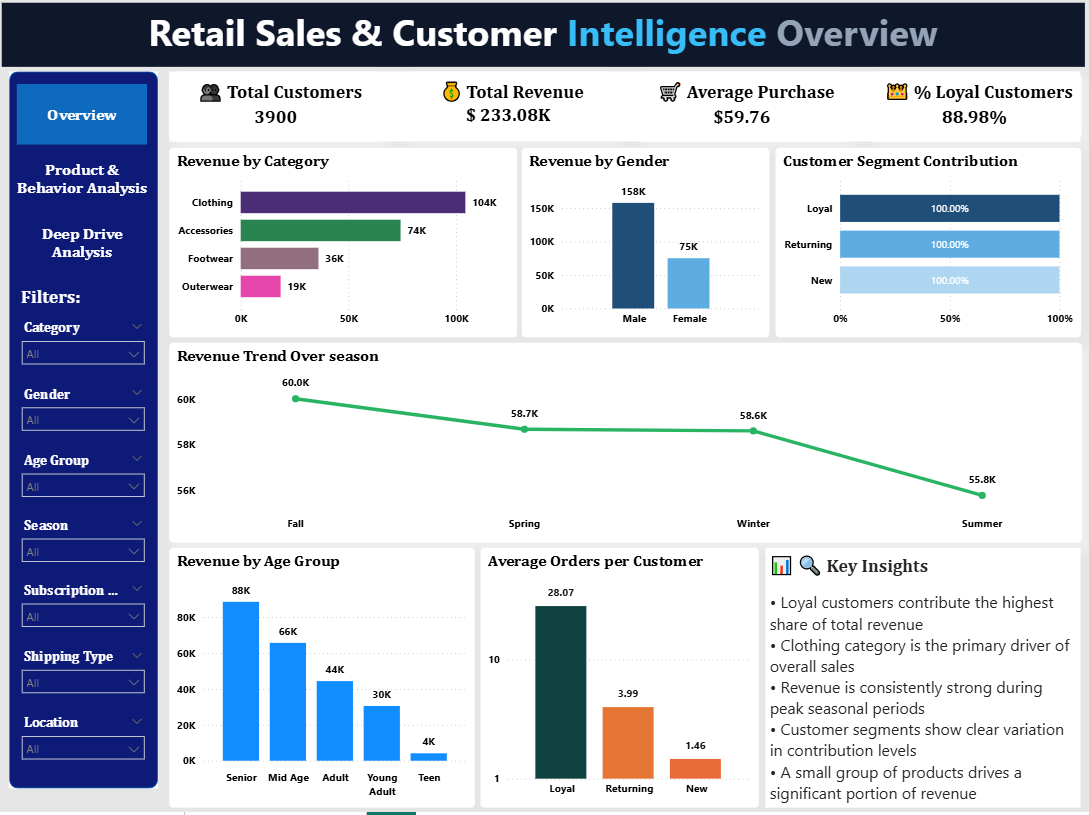

What the dashboard file says about the page in this screenshot:
{"tool":"powerbi","page":{"name":"Overview","canvas":[1280,960],"ordinal":0},"visuals":[{"type":"shape","box":[12.9,90.4,174.3,840.9],"z":0},{"type":"card","title":"💰 Total Revenue","fields":{"Values":["final_dashboard_data.Total Revenue"]},"box":[473.4,90.4,250.2,79.1],"z":1000,"group":"g1"},{"type":"lineChart","title":"Revenue Trend Over  season","fields":{"Category":["final_dashboard_data.season"],"Y":["final_dashboard_data.Total Revenue"]},"box":[200.1,408.3,1070.1,234],"z":1000},{"type":"card","title":"👥 Total Customers","fields":{"Values":["final_dashboard_data.Total Customers"]},"box":[200.1,90.4,250.2,82.3],"z":2000,"group":"g1"},{"type":"barChart","title":"Revenue by Category","fields":{"Category":["final_dashboard_data.category"],"Y":["final_dashboard_data.Total Revenue"]},"box":[200.1,180.8,408.3,222.7],"z":2000},{"type":"card","title":"🛒 Average Purchase","fields":{"Values":["final_dashboard_data.Average Purchase"]},"box":[746.7,90.4,250.1,82.3],"z":3000,"group":"g1"},{"type":"hundredPercentStackedBarChart","title":"Customer Segment Contribution","fields":{"Category":["final_dashboard_data.customer_segment"],"Y":["final_dashboard_data.Total Customers"]},"box":[911.9,180.8,358.3,222.7],"z":3000},{"type":"card","title":"👑 % Loyal Customers","fields":{"Values":["final_dashboard_data.Loyal Revenue %"]},"box":[1020,90.4,250.1,82.3],"z":4000,"group":"g1"},{"type":"pageNavigator","box":[22.6,104.9,153.3,222.7],"z":4000},{"type":"slicer","fields":{"Values":["final_dashboard_data.season"]},"box":[17.8,607.5,164.6,68.3],"z":4000,"group":"g2"},{"type":"textbox","box":[4.8,9.7,1270.2,75],"z":5000},{"type":"slicer","fields":{"Values":["final_dashboard_data.gender"]},"box":[17.8,454.3,164.6,67.8],"z":5000,"group":"g2"},{"type":"columnChart","title":"Revenue by Gender","fields":{"Category":["final_dashboard_data.gender"],"Y":["final_dashboard_data.Total Revenue"]},"box":[615,180.8,290.5,222.7],"z":6000},{"type":"slicer","fields":{"Values":["final_dashboard_data.age_group"]},"box":[17.8,530.9,164.6,67.8],"z":6000,"group":"g2"},{"type":"slicer","fields":{"Values":["final_dashboard_data.category"]},"box":[17.8,376.1,164.6,69.4],"z":7000,"group":"g2"},{"type":"lineClusteredColumnComboChart","title":"Average Orders per Customer","fields":{"Category":["final_dashboard_data.customer_segment"],"Y":["Avg(final_dashboard_data.previous_purchases)"]},"box":[566.5,648.8,326,305],"z":7000},{"type":"clusteredColumnChart","title":"Revenue by Age Group","fields":{"Category":["final_dashboard_data.age_group"],"Y":["final_dashboard_data.Total Revenue"]},"box":[200.1,649,358.3,305],"z":8000},{"type":"slicer","fields":{"Values":["final_dashboard_data.subscription_status"]},"box":[17.8,684.6,164.6,68.3],"z":8000,"group":"g2"},{"type":"textbox","box":[900.6,648.8,369.6,305],"z":9000},{"type":"slicer","fields":{"Values":["final_dashboard_data.shipping_type"]},"box":[17.8,761.7,164.6,68.3],"z":9000,"group":"g2"},{"type":"group","id":"g1","title":"Group 1","box":[200.1,90.4,1070.1,82.3],"z":10000},{"type":"textbox","box":[22.6,337.3,100.1,45.2],"z":12000},{"type":"slicer","fields":{"Values":["final_dashboard_data.location"]},"box":[17.8,838.8,164.6,68.3],"z":17001,"group":"g2"},{"type":"group","id":"g2","title":"Group 2","box":[17.8,376.1,164.6,531],"z":17002}]}

Visuals, with their boxes in screenshot pixels (x1, y1, x2, y2), scaled from the page's 1280x960 canvas onto the 1089x815 screenshot:
shape: pyautogui.locateOnScreen(11, 77, 159, 791)
"💰 Total Revenue" card: pyautogui.locateOnScreen(403, 77, 616, 144)
"Revenue Trend Over  season" lineChart: pyautogui.locateOnScreen(170, 347, 1081, 545)
"👥 Total Customers" card: pyautogui.locateOnScreen(170, 77, 383, 147)
"Revenue by Category" barChart: pyautogui.locateOnScreen(170, 153, 518, 343)
"🛒 Average Purchase" card: pyautogui.locateOnScreen(635, 77, 848, 147)
"Customer Segment Contribution" hundredPercentStackedBarChart: pyautogui.locateOnScreen(776, 153, 1081, 343)
"👑 % Loyal Customers" card: pyautogui.locateOnScreen(868, 77, 1081, 147)
pageNavigator: pyautogui.locateOnScreen(19, 89, 150, 278)
slicer - final_dashboard_data.season: pyautogui.locateOnScreen(15, 516, 155, 574)
textbox: pyautogui.locateOnScreen(4, 8, 1085, 72)
slicer - final_dashboard_data.gender: pyautogui.locateOnScreen(15, 386, 155, 443)
"Revenue by Gender" columnChart: pyautogui.locateOnScreen(523, 153, 770, 343)
slicer - final_dashboard_data.age_group: pyautogui.locateOnScreen(15, 451, 155, 508)
slicer - final_dashboard_data.category: pyautogui.locateOnScreen(15, 319, 155, 378)
"Average Orders per Customer" lineClusteredColumnComboChart: pyautogui.locateOnScreen(482, 551, 759, 810)
"Revenue by Age Group" clusteredColumnChart: pyautogui.locateOnScreen(170, 551, 475, 810)
slicer - final_dashboard_data.subscription_status: pyautogui.locateOnScreen(15, 581, 155, 639)
textbox: pyautogui.locateOnScreen(766, 551, 1081, 810)
slicer - final_dashboard_data.shipping_type: pyautogui.locateOnScreen(15, 647, 155, 705)
"Group 1" group: pyautogui.locateOnScreen(170, 77, 1081, 147)
textbox: pyautogui.locateOnScreen(19, 286, 104, 325)
slicer - final_dashboard_data.location: pyautogui.locateOnScreen(15, 712, 155, 770)
"Group 2" group: pyautogui.locateOnScreen(15, 319, 155, 770)
